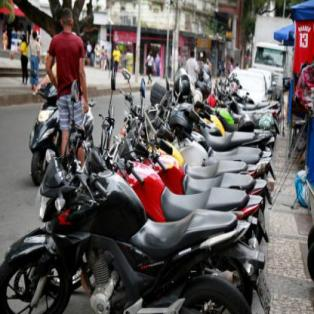Motocicleta: (1, 153, 263, 313)
